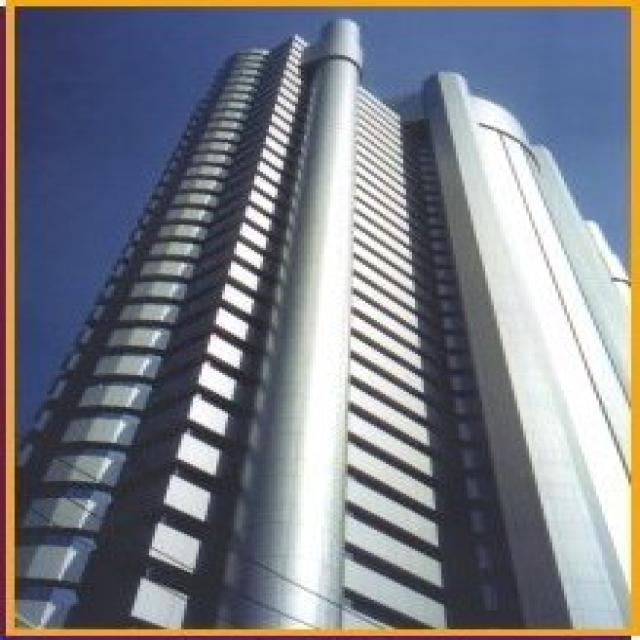building: (21, 17, 631, 625)
